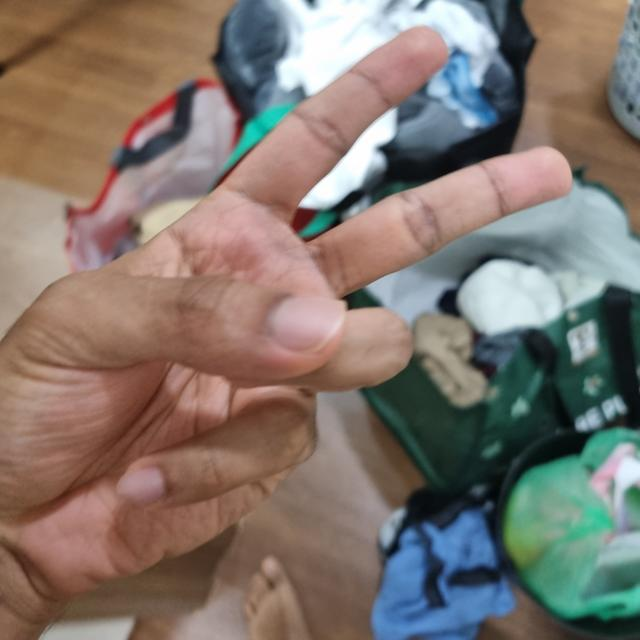Scissors: (0, 20, 571, 631)
